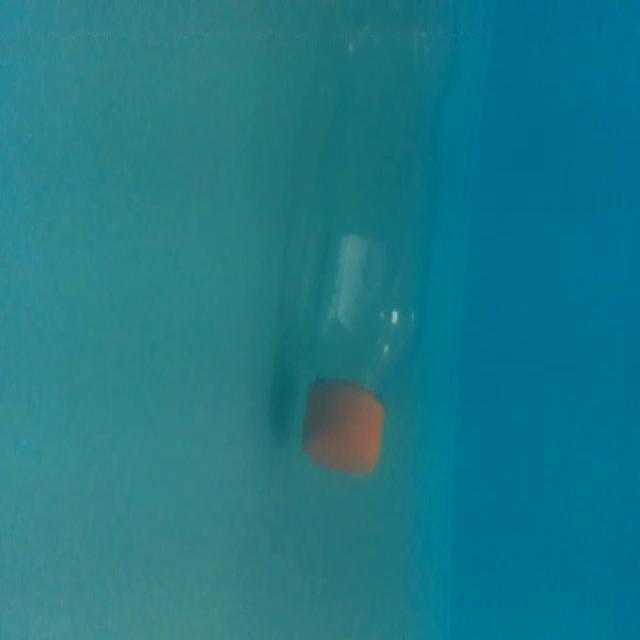plastic bottle: (287, 1, 460, 471)
